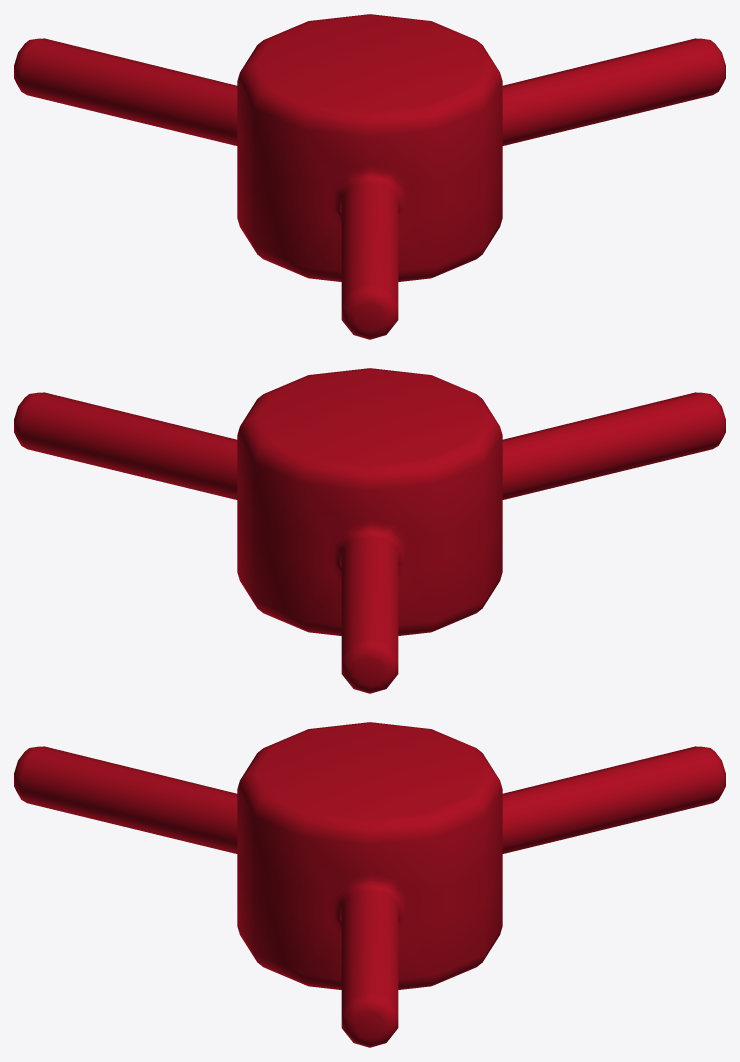
The model's file is Tri Fan Hurdle A.fbx.
3 views of the same model, one above another, from view 1: azimuth 30°, elevation 25°; view 2: azimuth 150°, elevation 25°; view 3: azimuth 270°, elevation 25° (orthographic).
Visible parts, largest first — view 1: Tri Fan Hurdle A; view 2: Tri Fan Hurdle A; view 3: Tri Fan Hurdle A.
Boxes of the visible parts, x1,y1,x2,y2 form: Tri Fan Hurdle A: (14, 14, 725, 339); Tri Fan Hurdle A: (14, 368, 725, 693); Tri Fan Hurdle A: (14, 722, 725, 1047).
Bounding box in the file's own units: 51.57 × 15.75 × 59.18.
